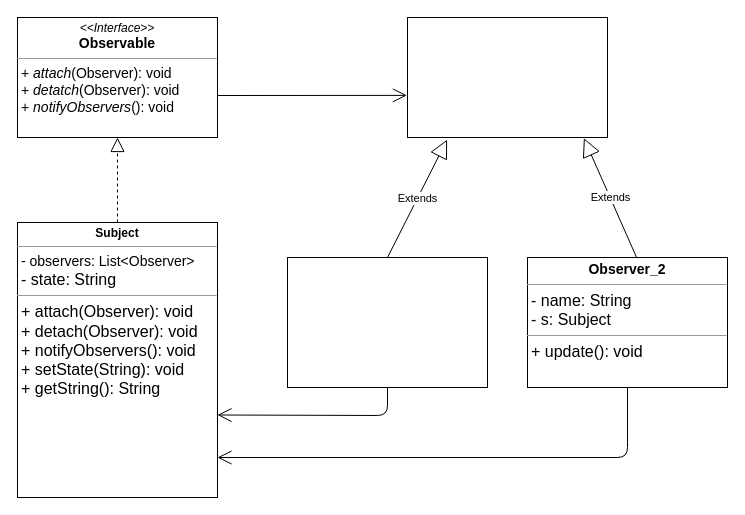
This 745x515 diagram has some shape labels left out. Each missing label, with the centre of its shape:
"<<abstract>> Observer + update (): void" belongs at point (507, 77).
"Observer_1 - name: String - s: Subject + update (): void" belongs at point (387, 322).
